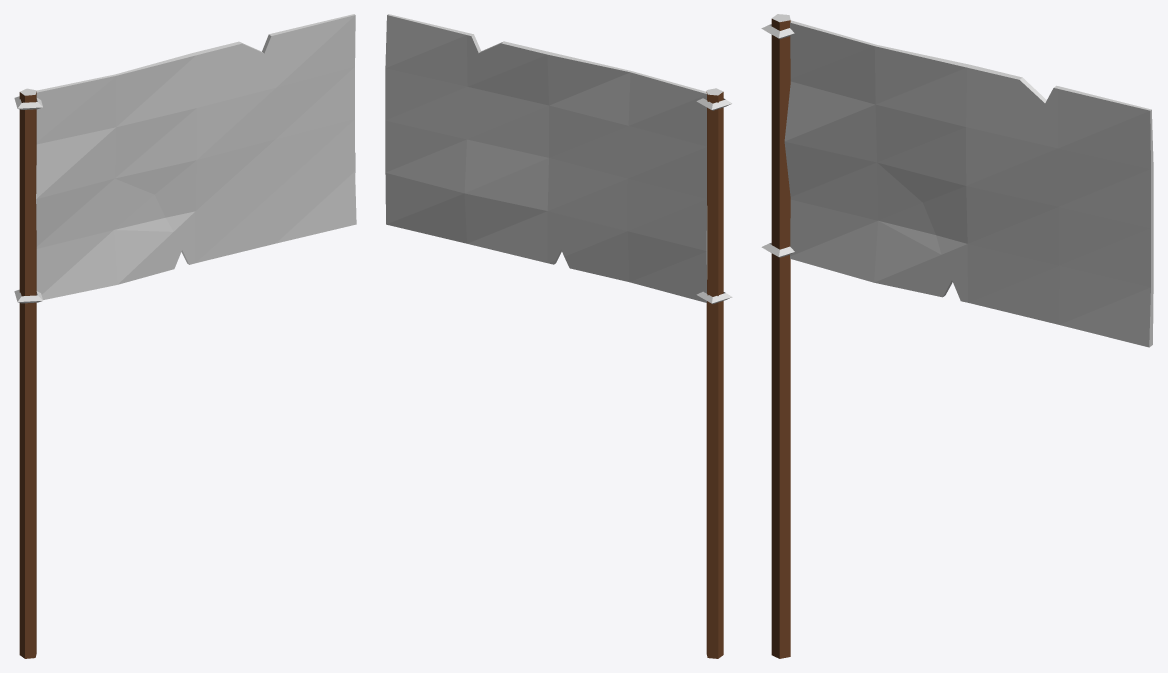
File: Flag.fbx
3 views of the same model, side by side, from view 1: azimuth 30°, elevation 25°; view 2: azimuth 150°, elevation 25°; view 3: azimuth 330°, elevation 25° (orthographic). The views are drawn at different scales.
Parts seen in each view (by area): view 1: Cloth, Flag; view 2: Cloth, Flag; view 3: Cloth, Flag.
Part boxes in pixels (x1,y1,x2,y2): Cloth: (36,14,356,299); Flag: (14,88,42,658); Cloth: (385,14,707,302); Flag: (696,88,732,658); Cloth: (784,20,1153,347); Flag: (761,14,794,658).
Size of the model in its own units: 85.89 by 135 by 7.42.
